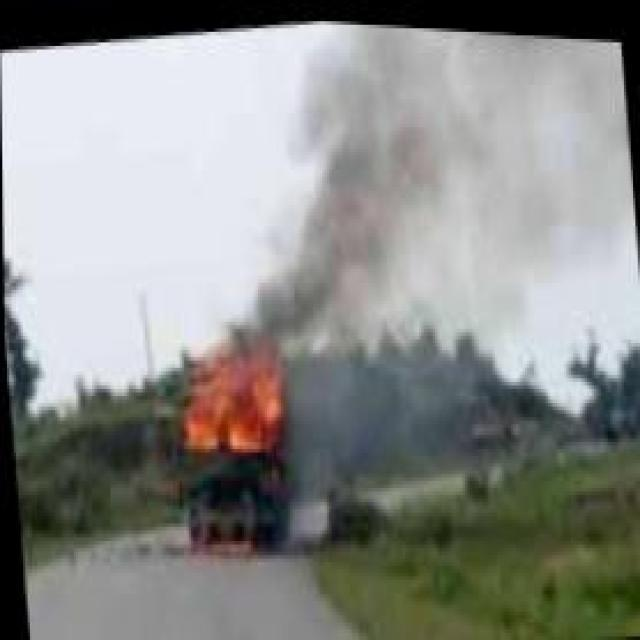Fire: (159, 322, 304, 477)
Smoke: (207, 11, 638, 364)
